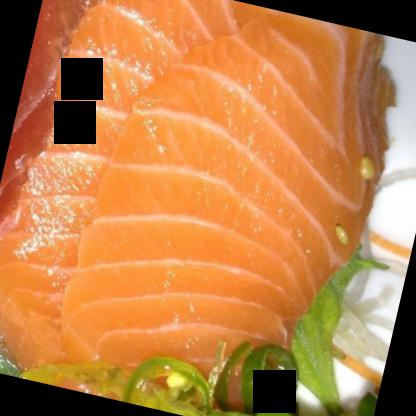salmon: (41, 0, 412, 415), (0, 0, 314, 415)
